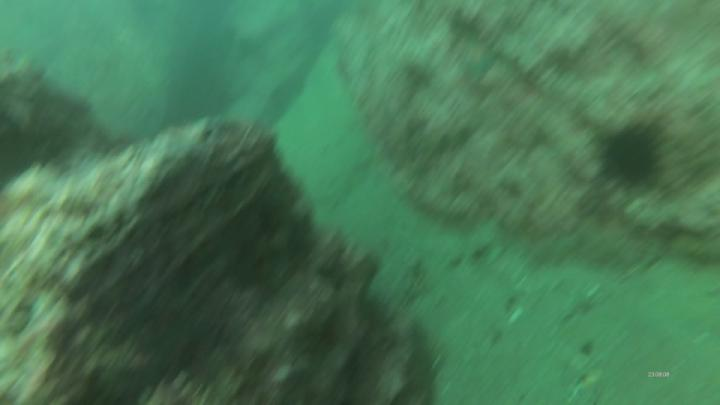echinus: (592, 114, 678, 201)
